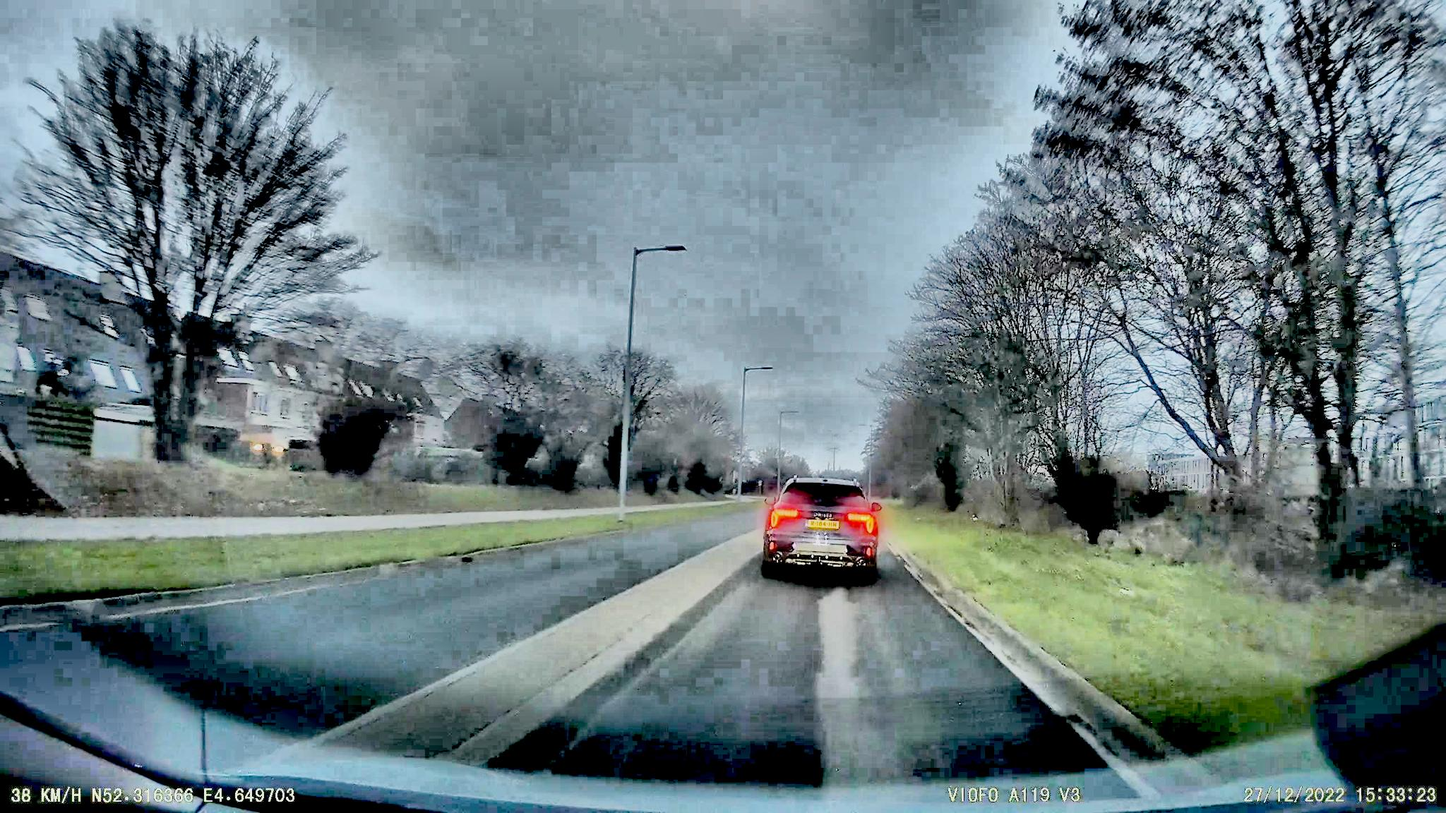Roads: (0, 514, 1152, 813)
